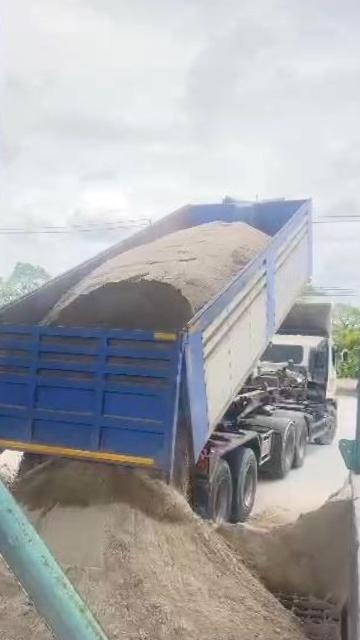sand: (13, 460, 319, 640), (46, 222, 271, 332), (218, 493, 354, 603), (0, 523, 103, 640), (175, 426, 187, 493)
